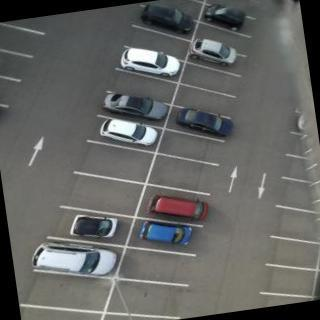car: (27, 230, 126, 286), (171, 97, 243, 150), (143, 181, 216, 232), (116, 35, 189, 85), (99, 78, 170, 128), (95, 110, 165, 154), (184, 30, 247, 74), (135, 213, 201, 253), (138, 1, 200, 40), (66, 206, 129, 243), (199, 1, 254, 37)
parking-space: (53, 159, 155, 232), (15, 255, 124, 320), (70, 127, 166, 199), (110, 233, 208, 297), (141, 141, 229, 205), (102, 56, 186, 118), (100, 265, 192, 320), (167, 73, 248, 128), (120, 15, 196, 73), (176, 53, 251, 107), (186, 13, 258, 65), (253, 254, 320, 305), (263, 197, 320, 255), (263, 224, 320, 281), (1, 15, 53, 64), (1, 37, 41, 89), (203, 1, 266, 26)
